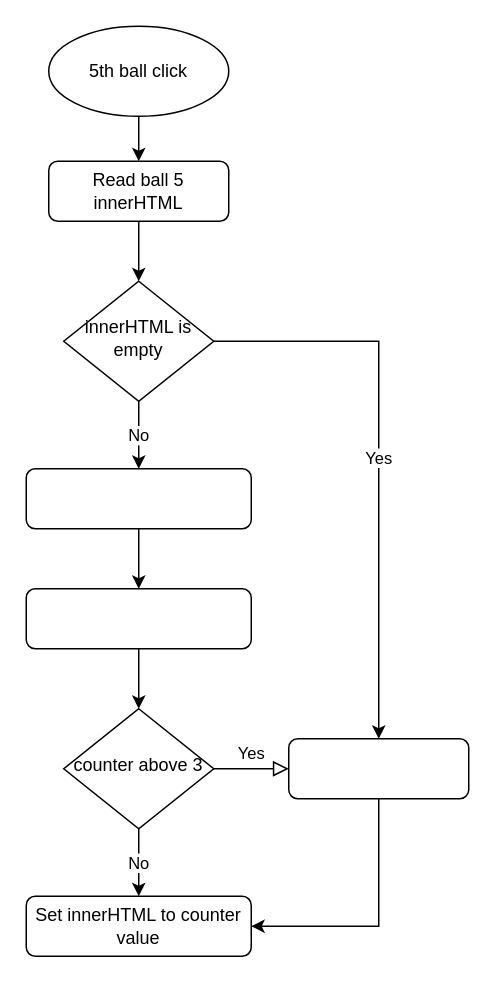
Some shapes in this 495 by 983 pixel diagram are drawn without their labels. The centre of each missing label's shape, as x and y in pixels:
Convert innerHTML value to number: point 138,498
set counter to 1: point 378,768
Set counter to the numric value plus 1: point 138,618
